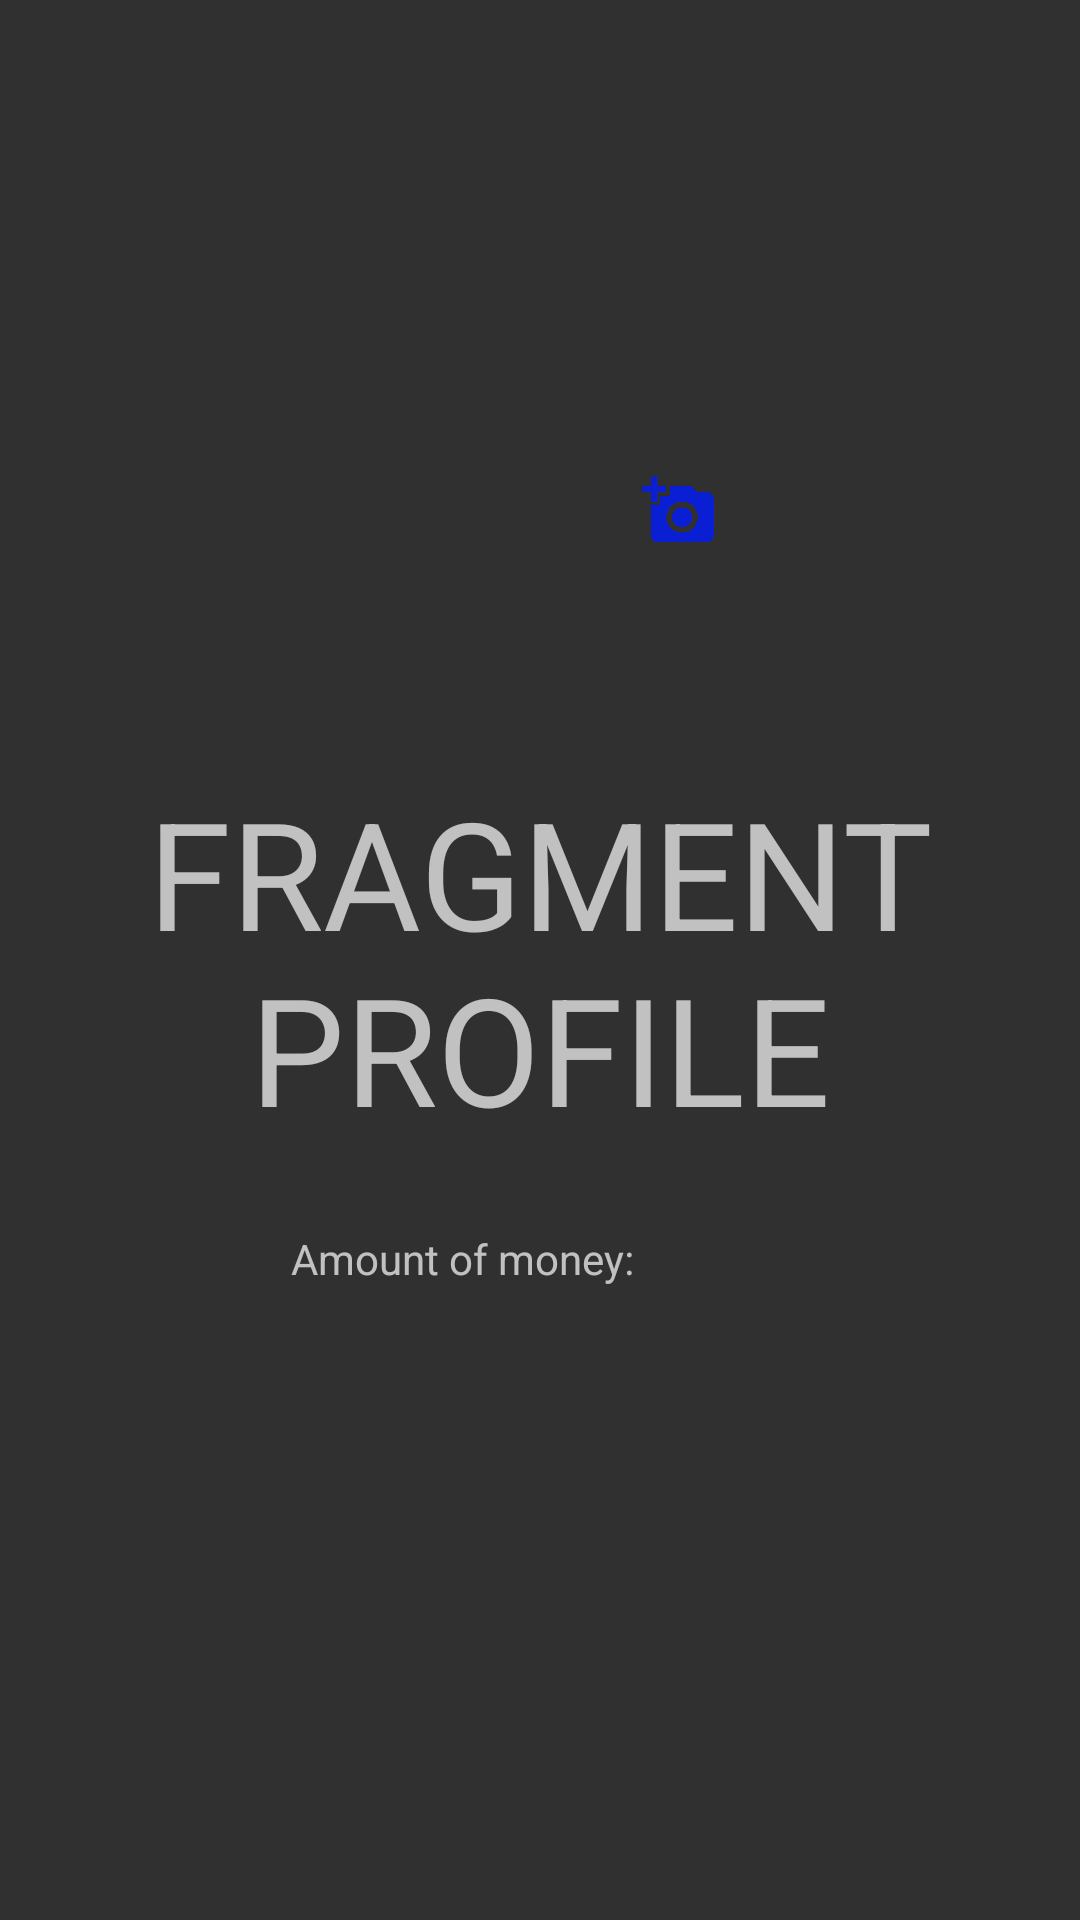

Icons on this 1080 x 1920 Android screen, each with the point to tap as (x=x, y=y):
add photo: (x=677, y=509)
